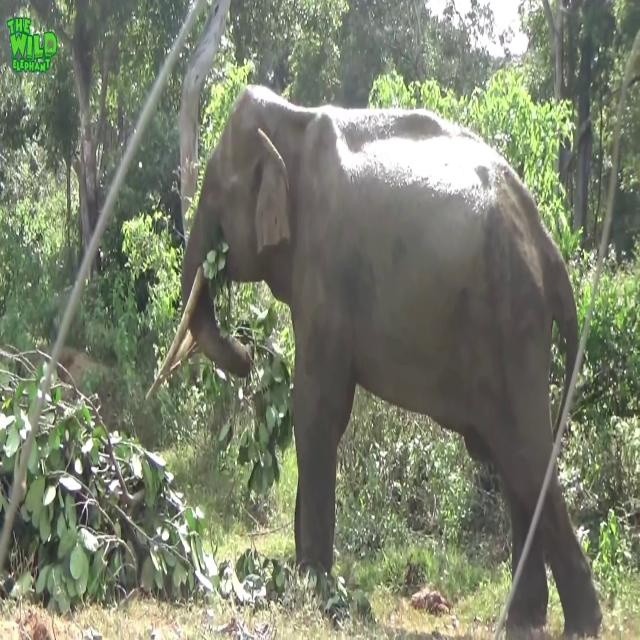Elephant: (145, 82, 603, 638)
